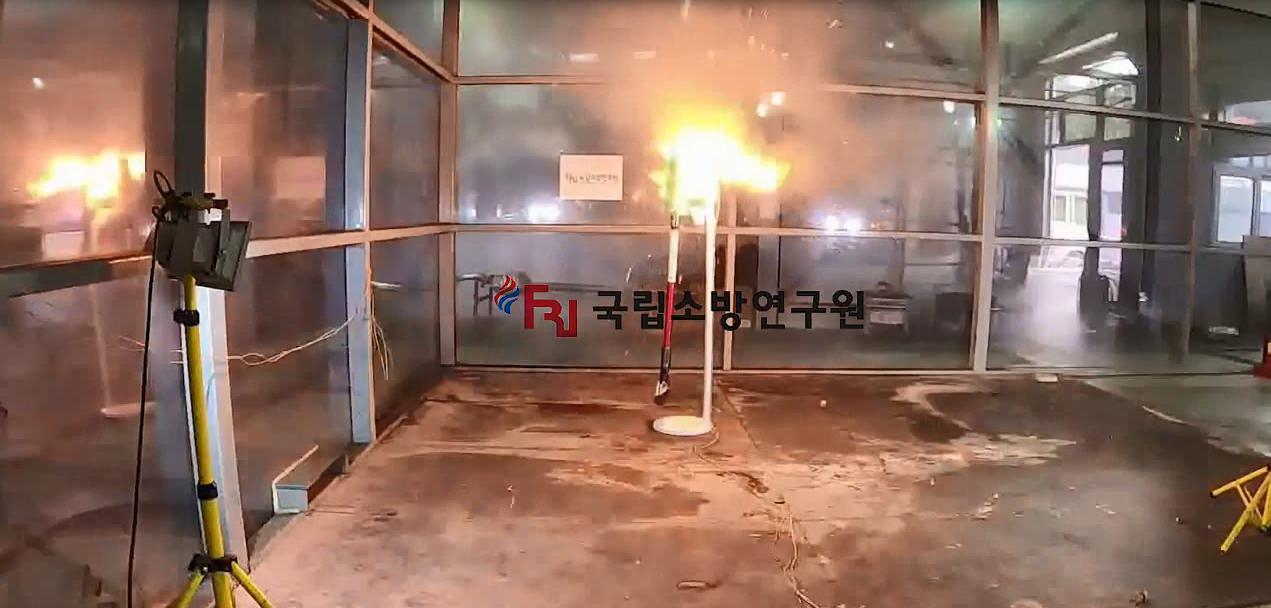fire: (651, 107, 791, 223), (24, 150, 150, 207)
